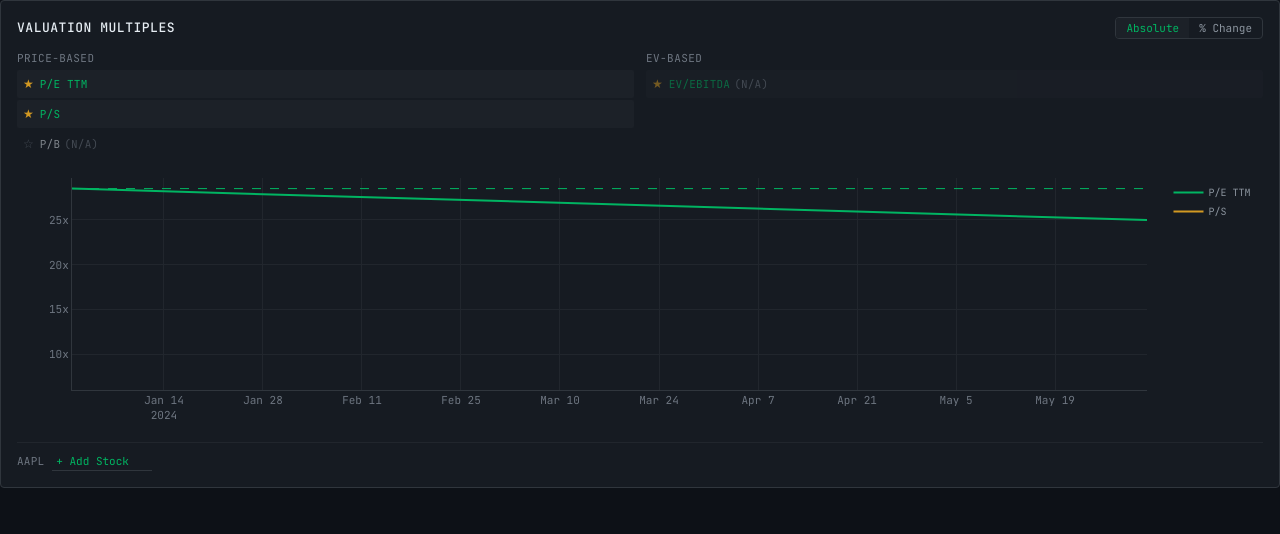
MultiplesPanel › adds comparison ticker on Enter
Type "MSFT" into the field named "add comparison ticker" at {"x": 102, "y": 462}, box [52,452,152,471]
Then press Enter
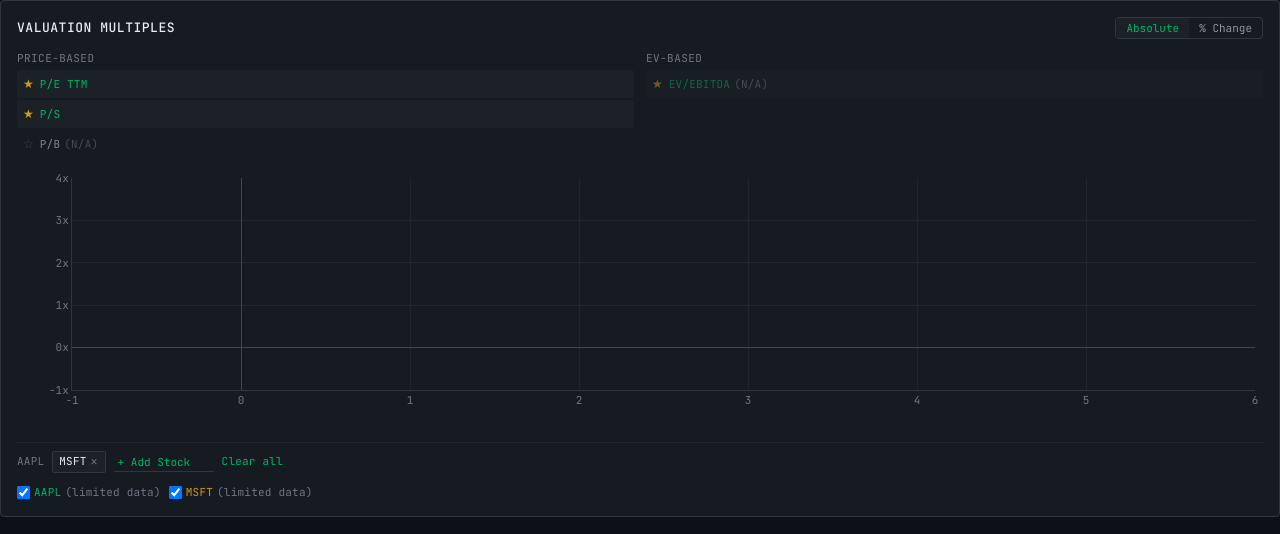
Check: the text "MSFT ×" is shown, box [52,451,106,473]
